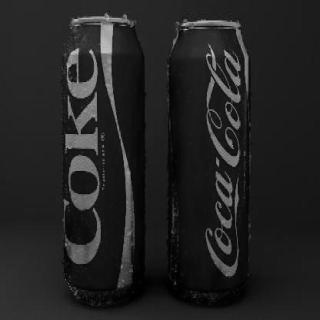alumunium_can: (60, 13, 146, 307), (167, 19, 250, 307)
